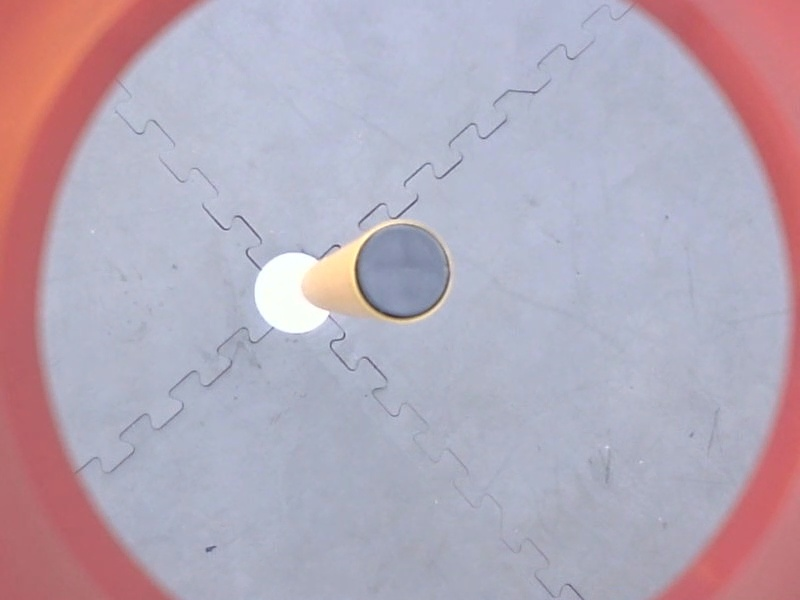tip: (347, 215, 462, 330)
